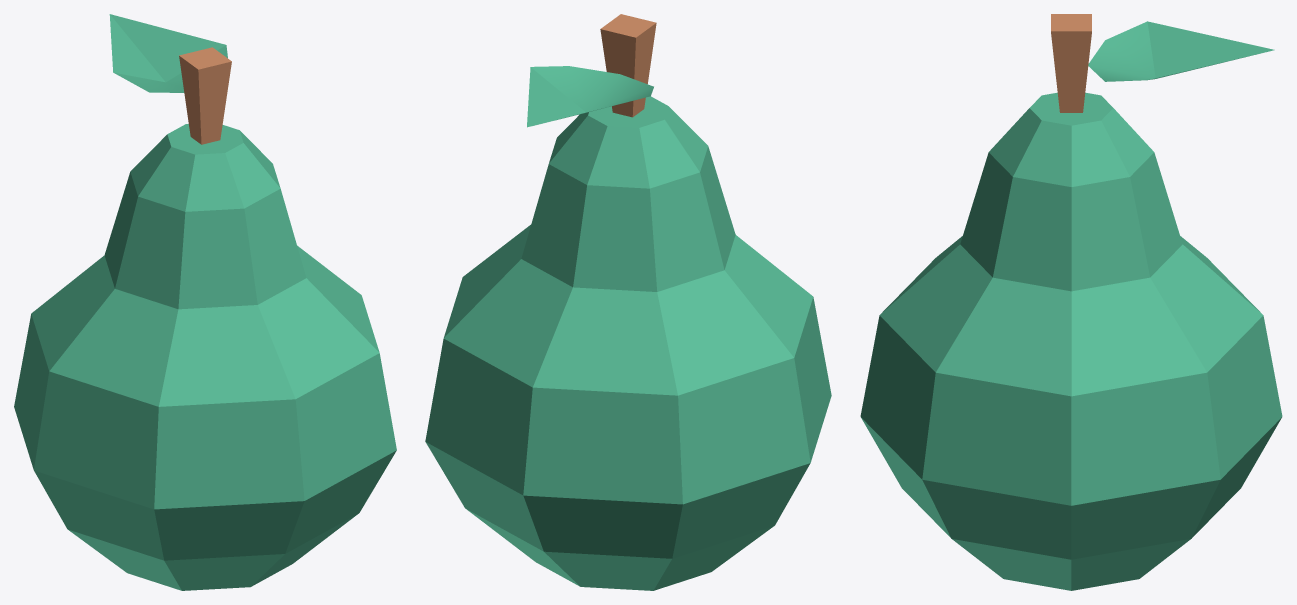
Rendered from pear.fbx.
The picture shows the model from 3 angles, left to right: view 1: azimuth 30°, elevation 25°; view 2: azimuth 150°, elevation 25°; view 3: azimuth 270°, elevation 25°; orthographic projection. The views are drawn at different scales.
Parts seen in each view (by area): view 1: pear; view 2: pear; view 3: pear.
Boxes of the visible parts, <box> form: pear: <box>14,14,396,590</box>; pear: <box>425,14,831,590</box>; pear: <box>860,14,1282,590</box>.
Bounding box in the file's own units: 1.96 × 2.71 × 1.96.
